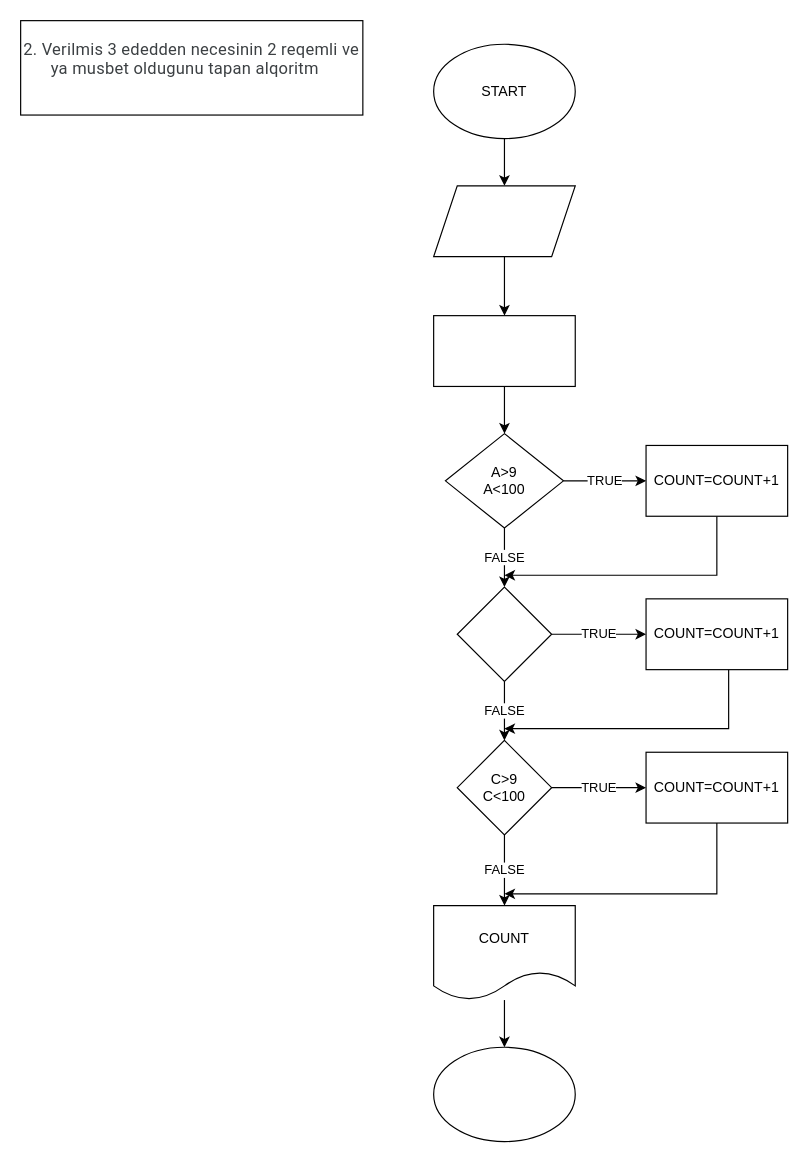
Image size: 808x1162. Some labels were removed from this diagram. Each missing label, with the centre of its shape:
"A, B,C" goes at [503,221].
"B>9 B<100" goes at [504,633].
"COUNT=0" goes at [503,350].
"END" goes at [503,1094].
